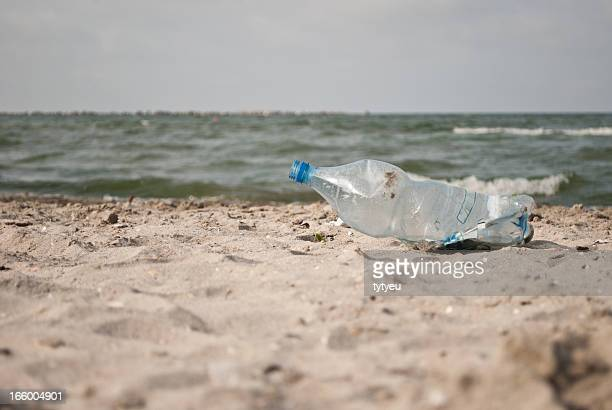plastic_bottle: (255, 80, 568, 310)
